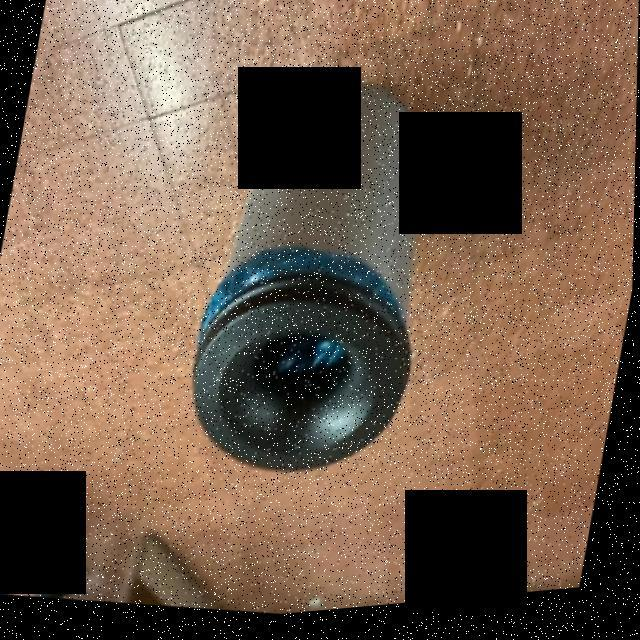bin: (164, 43, 476, 522)
